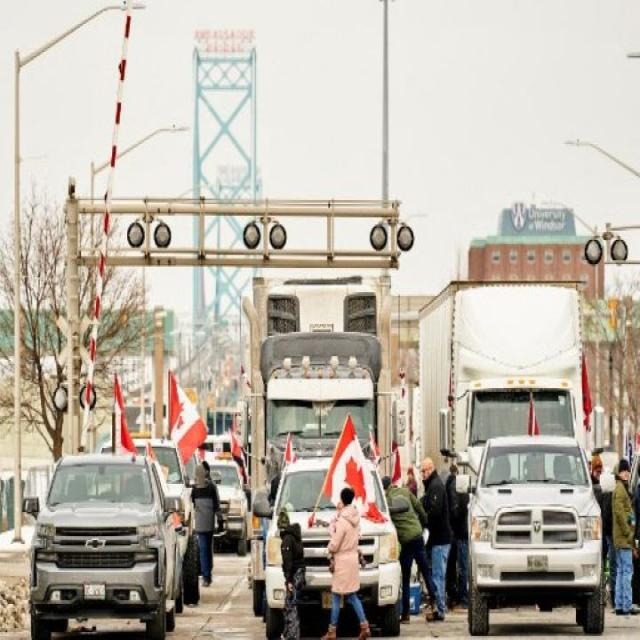car: (25, 456, 180, 639), (469, 435, 605, 636)
truck: (419, 283, 590, 470), (245, 274, 392, 489)
